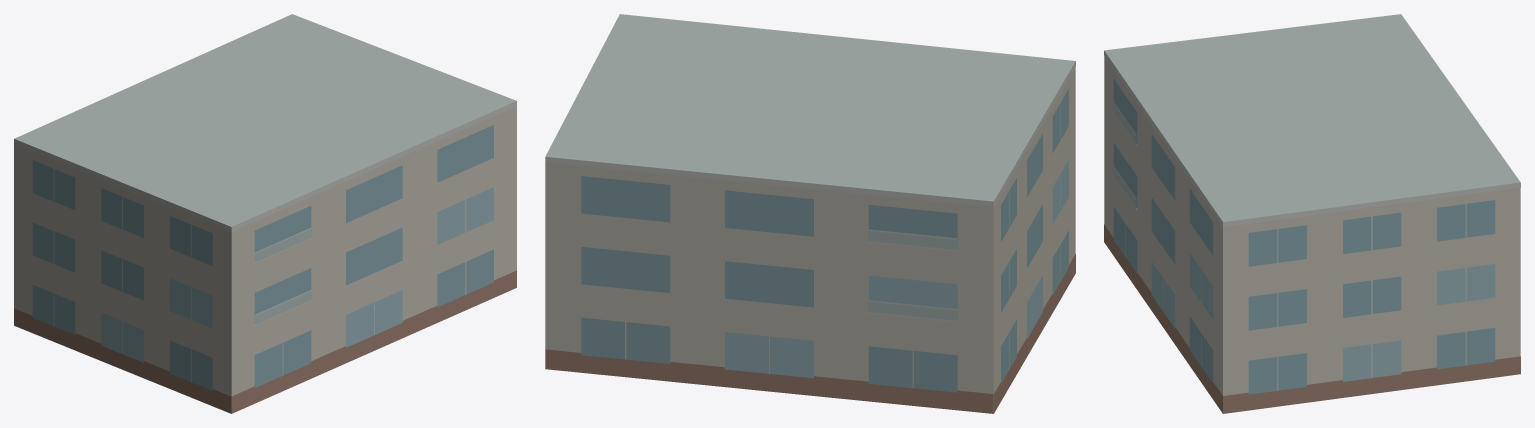
The model's file is survey-upis-32493678.glb.
3 views of the same model, side by side, from view 1: azimuth 30°, elevation 25°; view 2: azimuth 150°, elevation 25°; view 3: azimuth 270°, elevation 25° (orthographic). The views are drawn at different scales.
Visible parts, largest first — view 1: survey-upis-32493678.tmp; view 2: survey-upis-32493678.tmp; view 3: survey-upis-32493678.tmp.
Boxes of the visible parts, x1,y1,x2,y2 form: survey-upis-32493678.tmp: (14, 14, 516, 413); survey-upis-32493678.tmp: (545, 14, 1075, 413); survey-upis-32493678.tmp: (1104, 14, 1520, 413).
Bounding box in the file's own units: 21.32 × 9.15 × 18.03.
